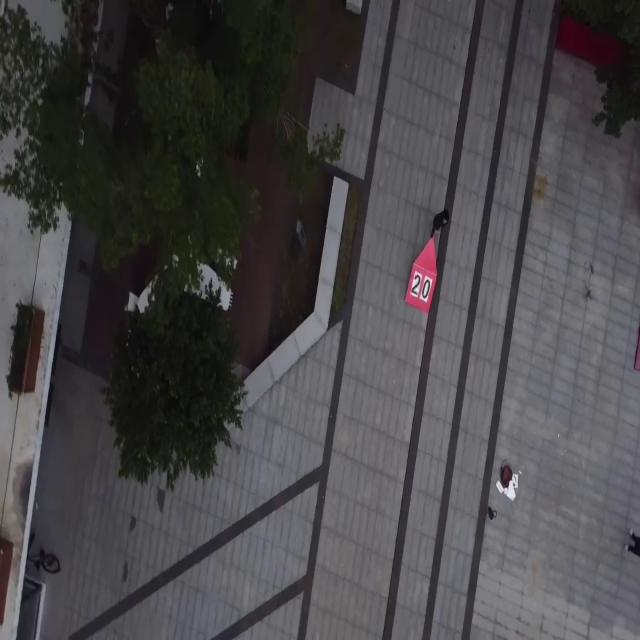-sign-: (404, 236, 438, 314)
